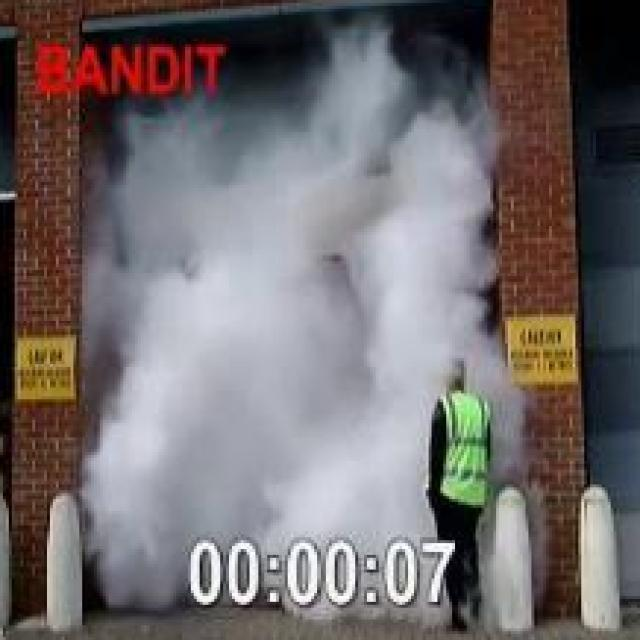fire: (85, 97, 529, 626)
